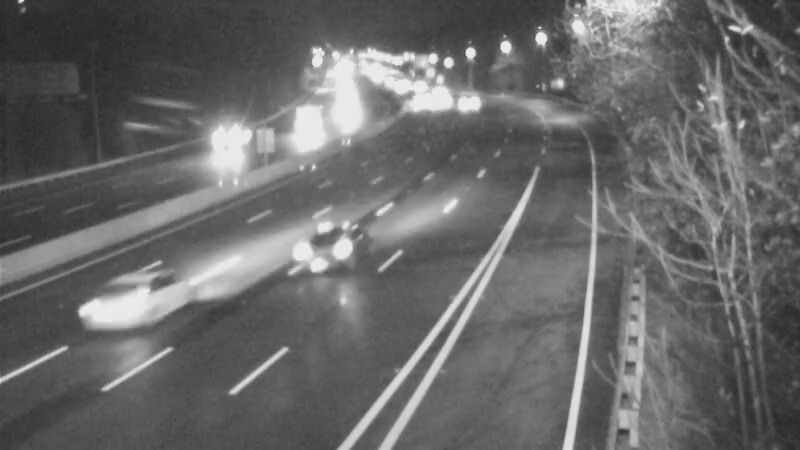vehicle: (57, 252, 167, 362), (274, 216, 354, 296), (445, 77, 495, 127), (396, 78, 446, 128), (192, 119, 242, 169), (269, 110, 319, 160), (321, 93, 371, 143)
